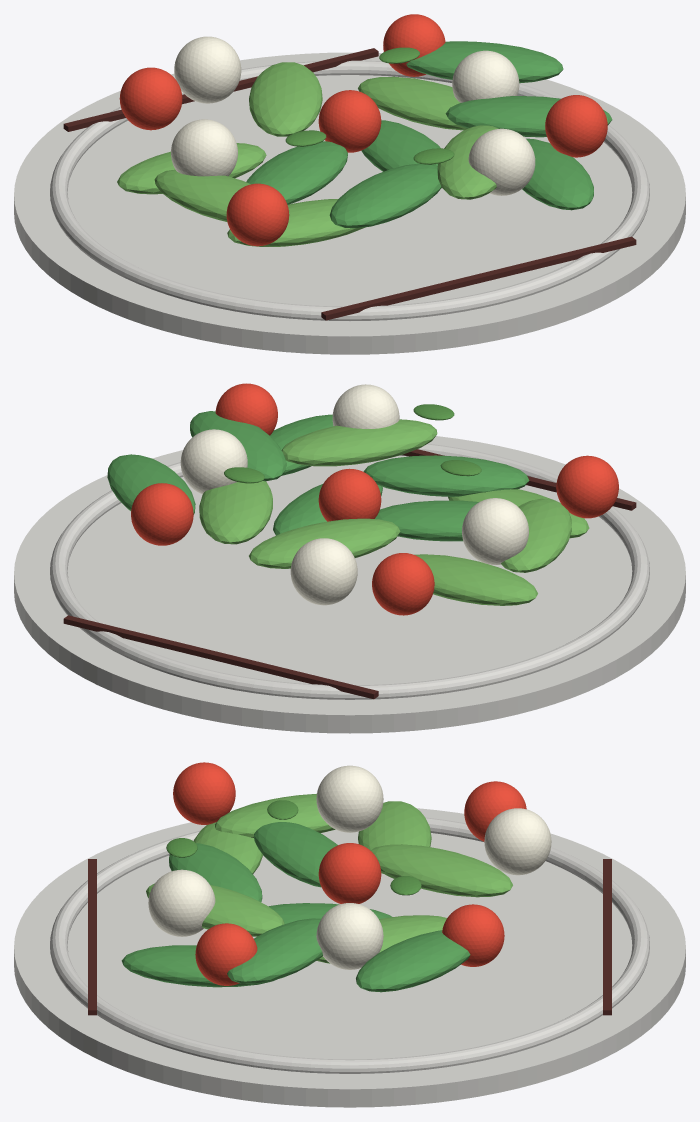
Rendered from ensalada-septimo-cielo-v130.glb.
3 renders of one model, top to bottom at view 1: azimuth 30°, elevation 25°; view 2: azimuth 150°, elevation 25°; view 3: azimuth 270°, elevation 25°, orthographic.
Visible parts, largest first — view 1: world, lettuce_7, lettuce_2, lettuce_1, bocconcini_0, lettuce_4, lettuce_9, lettuce_5, bocconcini_1, lettuce_11, bocconcini_3, cherry_0 (+10 smaller); view 2: world, lettuce_8, lettuce_7, lettuce_0, lettuce_2, lettuce_4, bocconcini_0, bocconcini_3, cherry_1, cherry_0, cherry_2, lettuce_10 (+10 smaller); view 3: world, lettuce_2, lettuce_11, lettuce_5, bocconcini_3, bocconcini_0, bocconcini_2, bocconcini_1, lettuce_1, cherry_2, cherry_4, cherry_1 (+10 smaller).
Boxes of the visible parts, <box> form: world: <box>14,47,685,354</box>; lettuce_7: <box>329,163,441,228</box>; lettuce_2: <box>249,62,322,136</box>; lettuce_1: <box>246,141,347,204</box>; bocconcini_0: <box>174,36,241,103</box>; lettuce_4: <box>358,76,467,130</box>; lettuce_9: <box>522,138,593,210</box>; lettuce_5: <box>445,96,612,137</box>; bocconcini_1: <box>468,128,535,195</box>; lettuce_11: <box>406,41,563,83</box>; bocconcini_3: <box>171,119,237,176</box>; cherry_0: <box>119,67,182,130</box>; world: <box>14,404,685,733</box>; lettuce_8: <box>281,419,437,466</box>; lettuce_7: <box>363,455,529,496</box>; lettuce_0: <box>414,554,537,605</box>; lettuce_2: <box>249,518,400,568</box>; lettuce_4: <box>199,481,272,544</box>; bocconcini_0: <box>290,538,357,605</box>; bocconcini_3: <box>462,498,528,564</box>; cherry_1: <box>131,483,193,545</box>; cherry_0: <box>372,553,434,615</box>; cherry_2: <box>556,455,618,518</box>; lettuce_10: <box>501,498,571,572</box>; world: <box>14,800,685,1107</box>; lettuce_2: <box>370,844,512,897</box>; lettuce_11: <box>356,930,470,992</box>; lettuce_5: <box>227,918,322,984</box>; bocconcini_3: <box>316,765,383,832</box>; bocconcini_0: <box>484,808,551,875</box>; bocconcini_2: <box>316,903,383,969</box>; bocconcini_1: <box>148,869,215,936</box>; lettuce_1: <box>254,822,337,887</box>; cherry_2: <box>173,762,235,824</box>; cherry_4: <box>318,843,381,903</box>; cherry_1: <box>442,904,504,966</box>.
Bounding box in the file's own units: 0.3 × 0.062 × 0.3.
